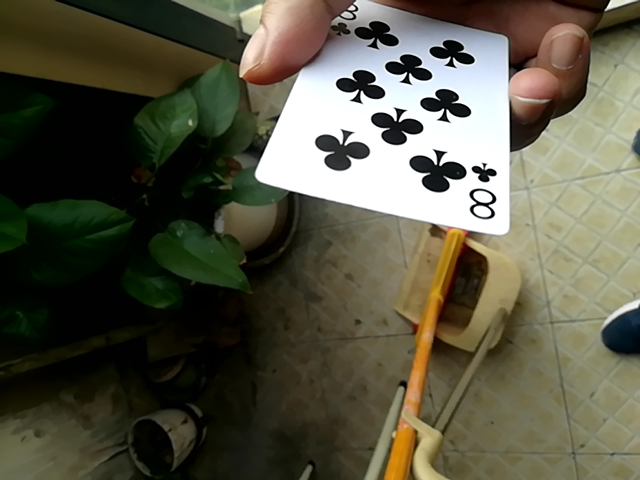mh 8: (252, 2, 515, 240)
